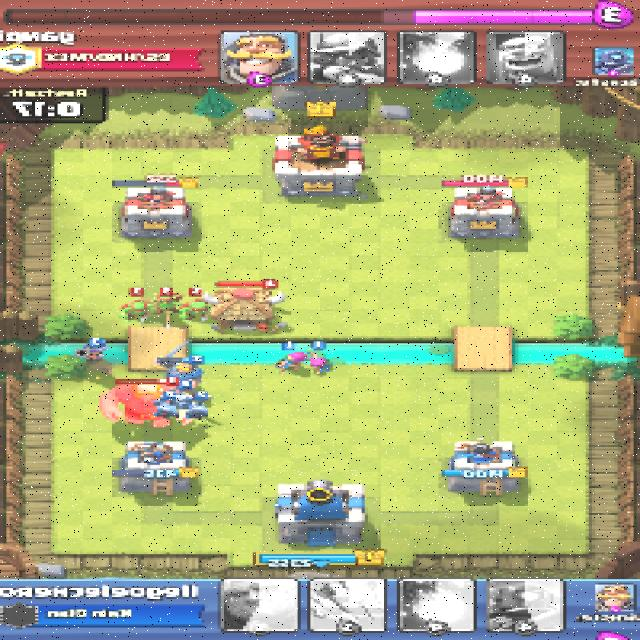Enemy-Giant: (98, 382, 201, 428)
Enemy-GoblinHut: (195, 288, 295, 331)
Enemy-SpearGoblin: (174, 300, 212, 322), (151, 292, 180, 318), (118, 300, 149, 324)
Player-Archer: (274, 352, 307, 370), (309, 356, 336, 374)
Player-Knight: (161, 360, 204, 388)
Player-Minion: (184, 400, 213, 419), (151, 401, 181, 418), (170, 392, 194, 407)
Player-Musketeer: (77, 339, 113, 373)
